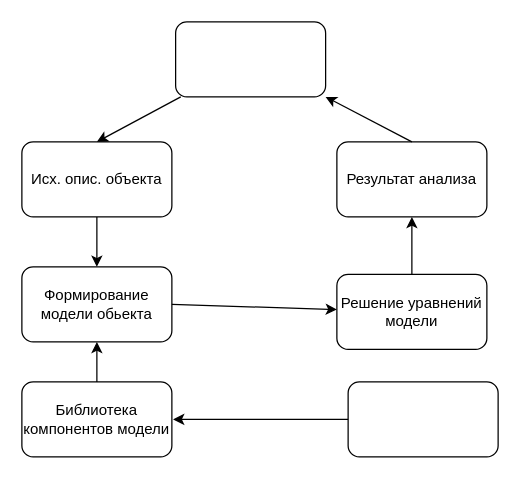
Some shapes in this 520 by 479 pixel diagram are drawn without their labels. The centre of each missing label's shape, as x and y in pixels:
"Пользователь" goes at pixel 250 59.
"Разработчик модели" goes at pixel 422 419.
